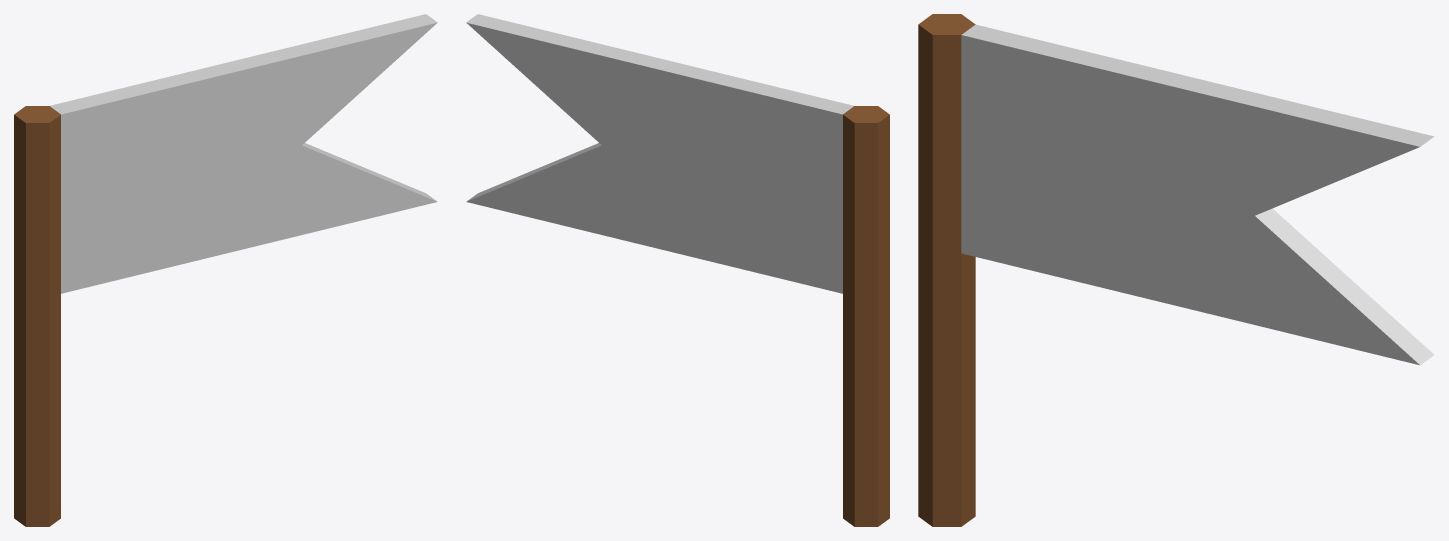
Rendered from banner.glb.
The picture shows the model from 3 angles, left to right: view 1: azimuth 30°, elevation 25°; view 2: azimuth 150°, elevation 25°; view 3: azimuth 330°, elevation 25°; orthographic projection. The views are drawn at different scales.
Parts seen in each view (by area): view 1: Banner; view 2: Banner; view 3: Banner.
Part boxes in pixels (x1,y1,x2,y2): Banner: [14, 14, 437, 526]; Banner: [466, 14, 889, 526]; Banner: [918, 14, 1434, 526].
Bounding box in the file's own units: 1.07 × 1 × 0.1056.
